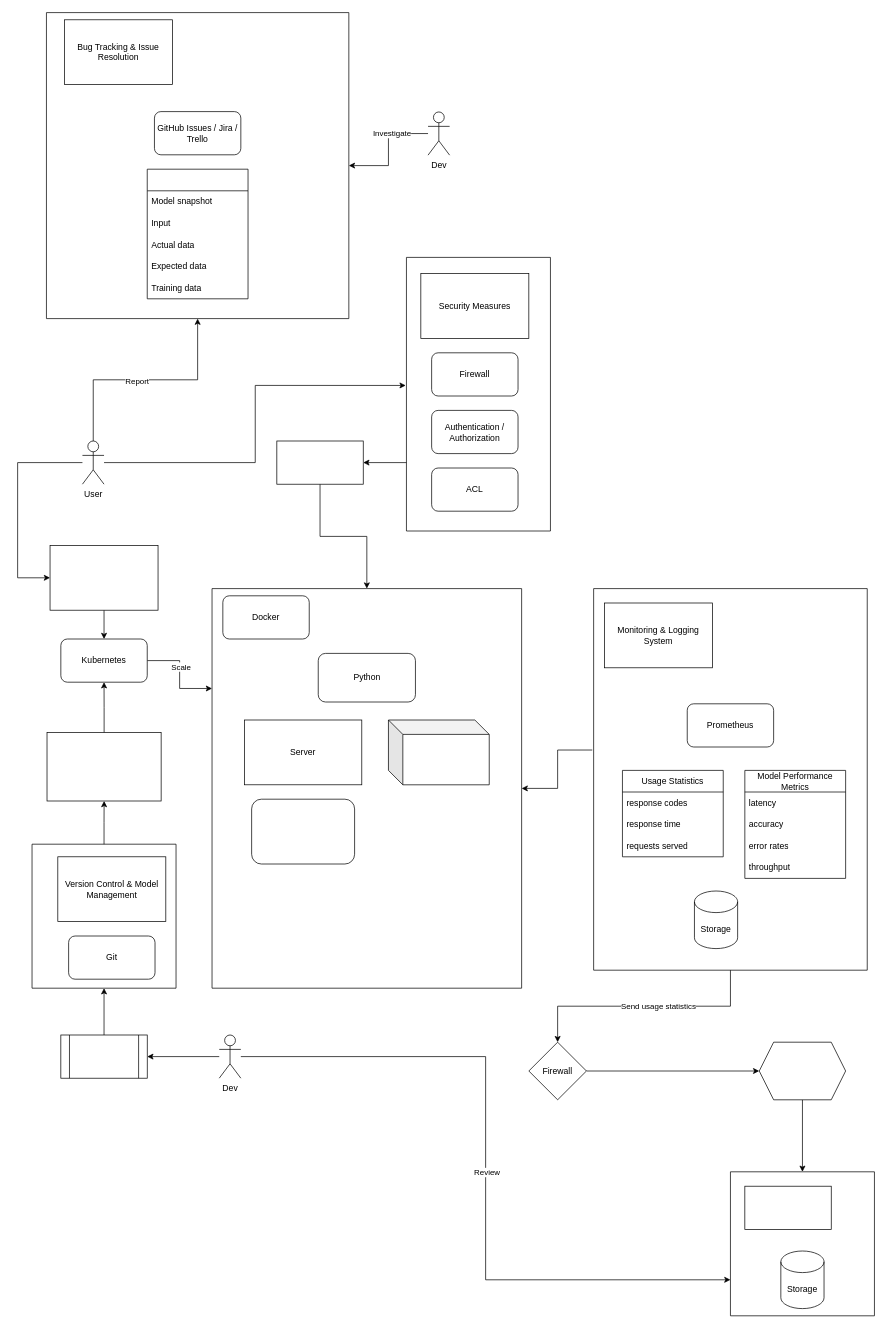
Some shapes in this 887 by 1328 pixel diagram are drawn without their labels. The box of each missing label's shape, as (x1, y1, x2, y2) in pixels:
Bug Report: (147, 168, 248, 299)
Client: (276, 440, 363, 484)
Containerization & Orchestration: (49, 545, 158, 610)
FastAPI: (251, 798, 355, 864)
Making changes: (60, 1034, 147, 1078)
ML Model: (388, 719, 489, 785)
Model Deployment Service: (46, 732, 161, 801)
Model Usage Processor: (744, 1185, 831, 1229)
Statistics collector: (759, 1041, 846, 1100)
